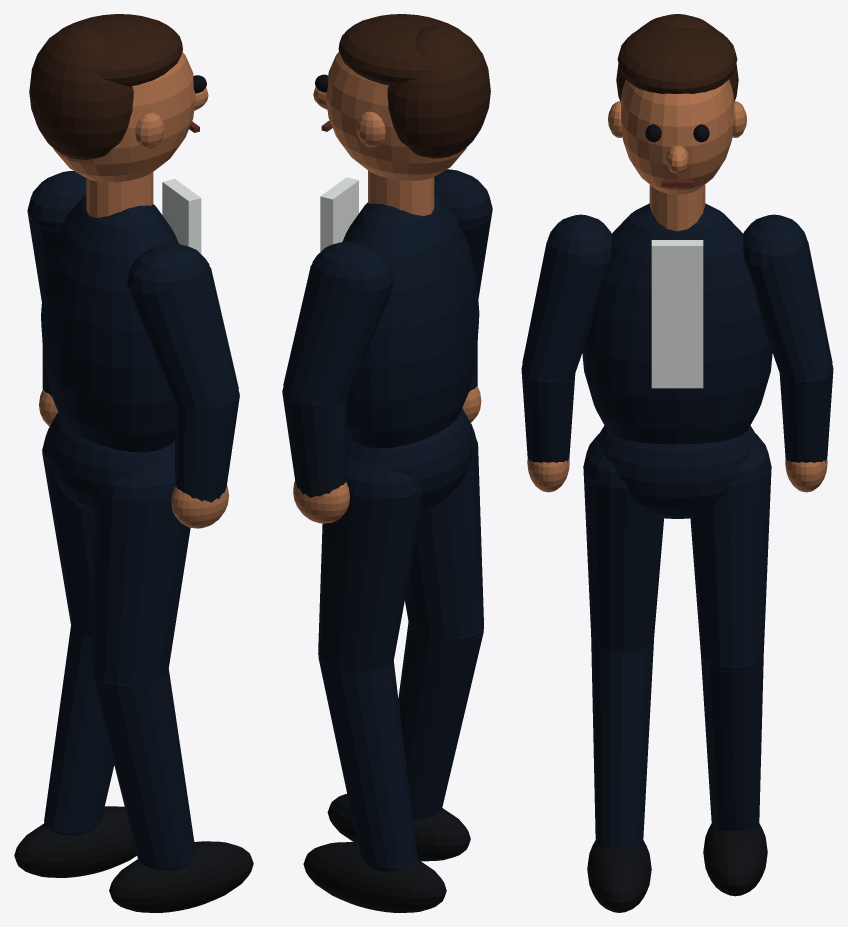
File: person_15.dae
3 renders of one model, left to right at view 1: azimuth 30°, elevation 25°; view 2: azimuth 150°, elevation 25°; view 3: azimuth 270°, elevation 25°, orthographic. The views are drawn at different scales.
Parts seen in each view (by area): view 1: part0node, part4node, part1node, part3node, part2node; view 2: part0node, part4node, part3node, part1node, part2node; view 3: part0node, part3node, part2node, part4node, part1node.
Part boxes in pixels (left/top/right/bottom): part0node: left=27, top=171, right=239, bottom=871; part4node: left=29, top=14, right=182, bottom=159; part1node: left=14, top=75, right=253, bottom=912; part3node: left=39, top=52, right=228, bottom=528; part2node: left=162, top=179, right=201, bottom=253; part0node: left=282, top=169, right=492, bottom=871; part4node: left=338, top=14, right=490, bottom=158; part3node: left=293, top=51, right=481, bottom=523; part1node: left=303, top=74, right=470, bottom=912; part2node: left=320, top=177, right=358, bottom=251; part0node: left=521, top=203, right=833, bottom=846; part3node: left=527, top=79, right=827, bottom=492; part2node: left=651, top=240, right=703, bottom=388; part4node: left=616, top=14, right=738, bottom=101; part1node: left=587, top=124, right=767, bottom=912.
Size of the model in its own units: 0.033 by 0.05 by 0.15.
